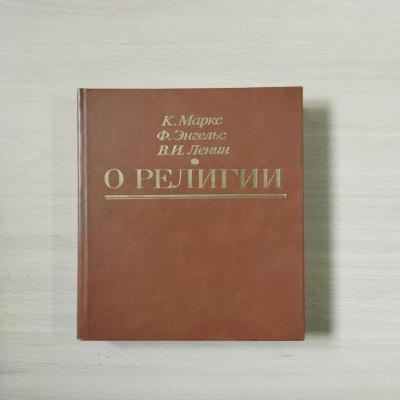printed_products: (85, 90, 306, 340)
